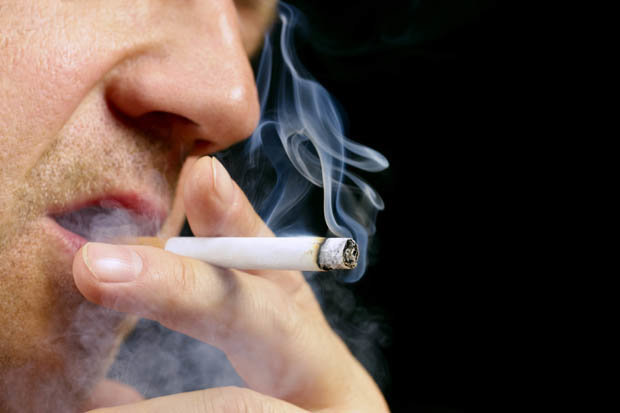cigarette: (110, 220, 367, 273)
